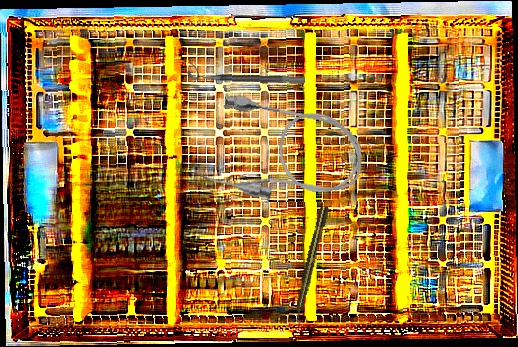Cannula: (197, 91, 371, 215)
Fixation Ring: (186, 62, 306, 85)
Handpiece: (290, 204, 331, 325)
